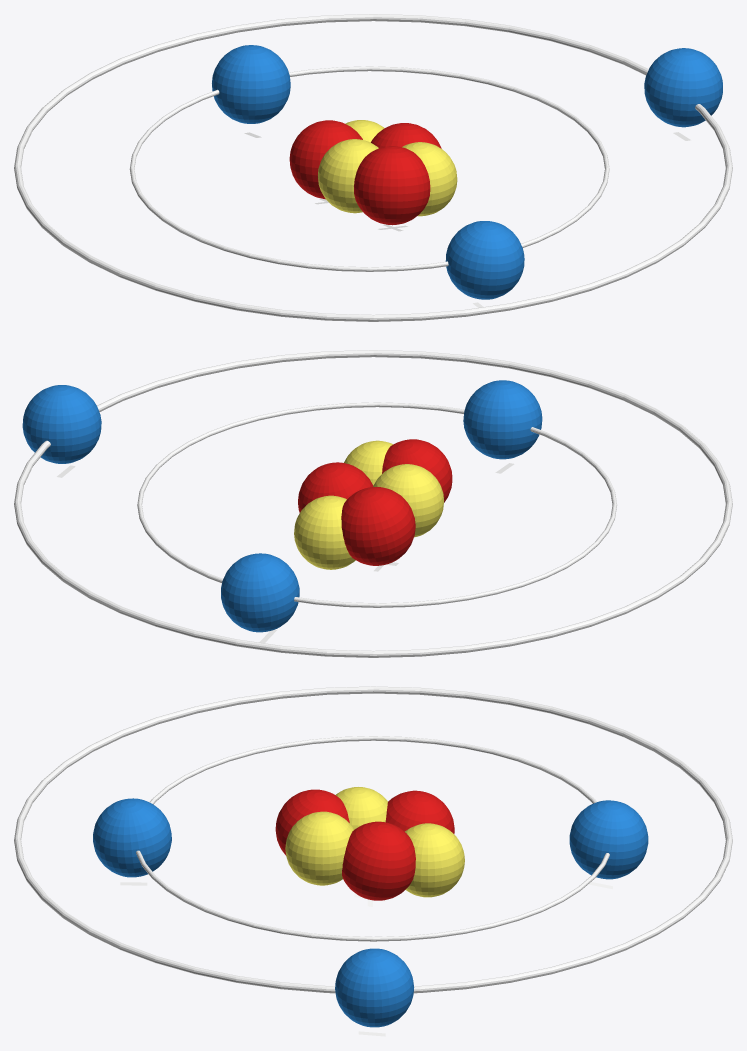
3 views of the same model, one above another, from view 1: azimuth 30°, elevation 25°; view 2: azimuth 150°, elevation 25°; view 3: azimuth 270°, elevation 25° (orthographic).
Visible parts, largest first — view 1: Torus.002, Torus.001, -, -.001, f.002, -.002, f, Sphere.002, Sphere.001, f.001; view 2: Torus.002, Torus.001, -.001, -, -.002, f, Sphere, Sphere.002, f.001, f.002, Sphere.001; view 3: Torus.002, Torus.001, -.002, -.001, -, f.001, Sphere.001, Sphere, f, f.002, Sphere.002.
Part boxes in pixels (x1,y1,x2,y2): Torus.002: (14, 14, 732, 321); Torus.001: (129, 66, 609, 271); -: (445, 221, 524, 299); -.001: (212, 45, 290, 123); f.002: (354, 146, 430, 225); -.002: (644, 48, 722, 127); f: (289, 120, 362, 199); Sphere.002: (318, 139, 378, 213); Sphere.001: (402, 142, 457, 216); f.001: (371, 123, 441, 148); Torus.002: (14, 350, 732, 657); Torus.001: (137, 402, 617, 607); -.001: (221, 553, 299, 632); -: (463, 380, 542, 459); -.002: (22, 385, 101, 463); f: (341, 487, 415, 565); Sphere: (294, 495, 355, 569); Sphere.002: (373, 464, 443, 537); f.001: (298, 462, 373, 512); f.002: (382, 439, 452, 502); Sphere.001: (344, 440, 392, 485); Torus.002: (14, 686, 732, 993); Torus.001: (136, 736, 609, 941); -.002: (335, 948, 414, 1027); -.001: (569, 800, 648, 879); -: (93, 798, 171, 877); f.001: (342, 821, 415, 900); Sphere.001: (285, 811, 353, 885); Sphere: (405, 823, 464, 897); f: (385, 790, 454, 833); f.002: (275, 789, 349, 855); Sphere.002: (335, 787, 387, 829).
Size of the model in its own units: 4.46 by 0.6049 by 4.23.
